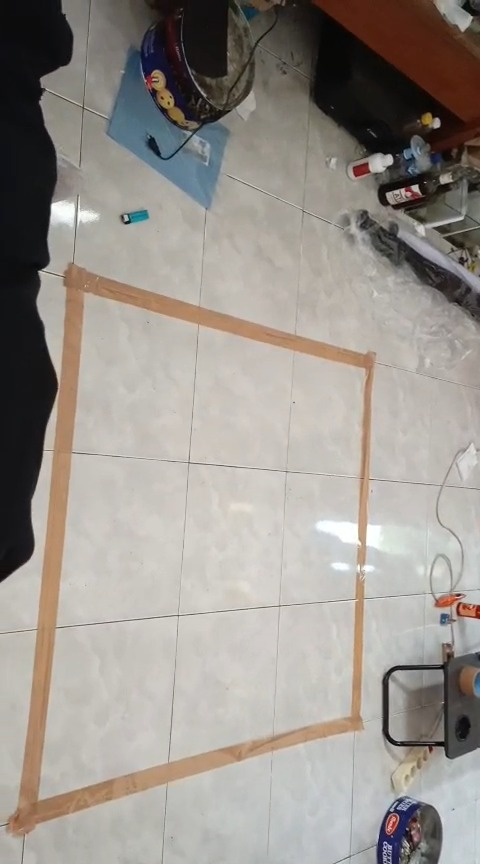floor marking: (8, 263, 374, 835)
